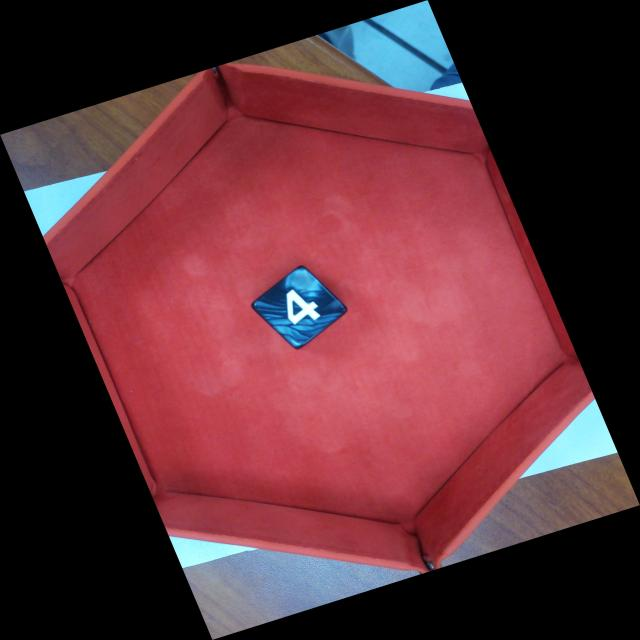dice: (258, 267, 349, 347)
